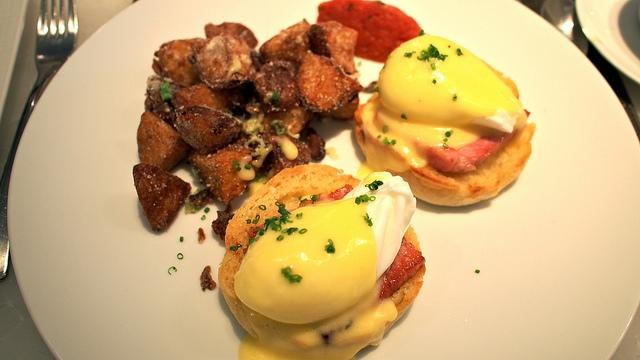potato: (316, 1, 426, 62), (188, 143, 264, 205), (296, 50, 364, 112), (132, 163, 192, 232), (137, 110, 192, 172), (174, 105, 243, 154), (193, 34, 253, 90), (306, 21, 358, 74), (152, 37, 204, 87), (259, 19, 313, 67), (172, 82, 232, 116), (272, 133, 312, 176), (262, 106, 314, 136), (204, 22, 258, 48), (298, 126, 326, 160)
